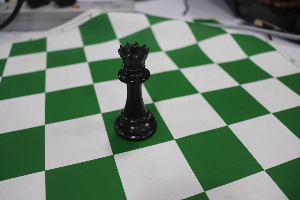black_queen: (102, 27, 165, 147)
